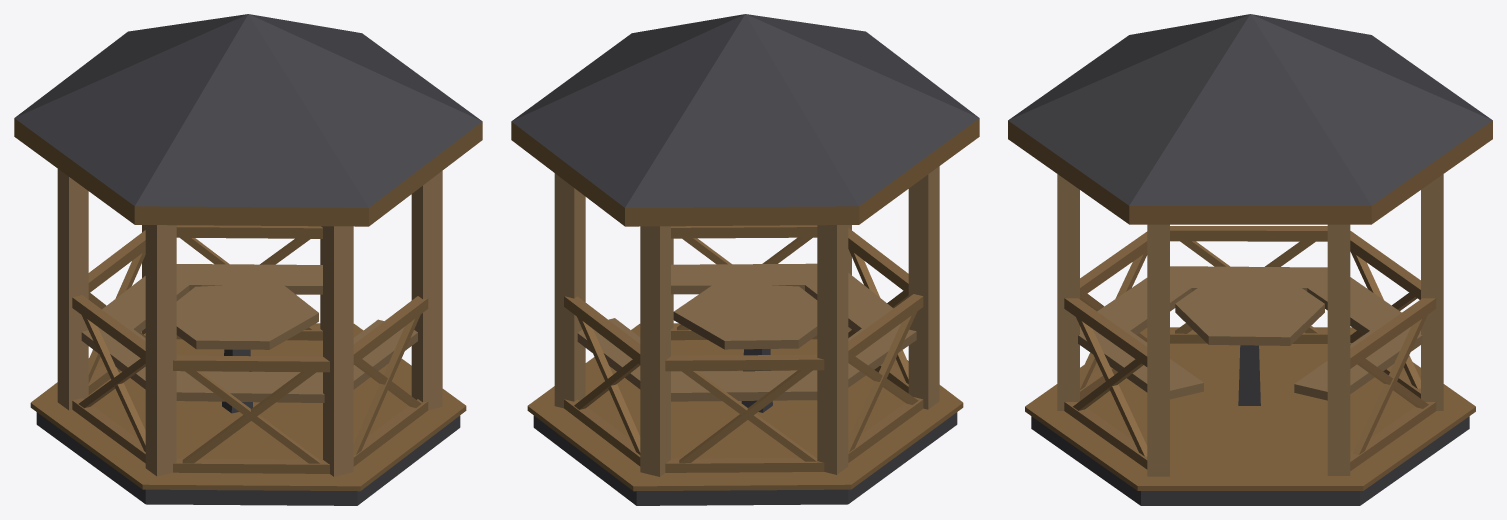
The model's file is besedka_1.fbx.
The picture shows the model from 3 angles, left to right: view 1: azimuth 30°, elevation 25°; view 2: azimuth 150°, elevation 25°; view 3: azimuth 270°, elevation 25°; orthographic projection.
Visible parts, largest first — view 1: besedka_1; view 2: besedka_1; view 3: besedka_1.
Part boxes in pixels (x1,y1,x2,y2): besedka_1: (14,14,482,505); besedka_1: (511,14,979,505); besedka_1: (1008,14,1492,505).
Size of the model in its own units: 500 by 566 by 600.
